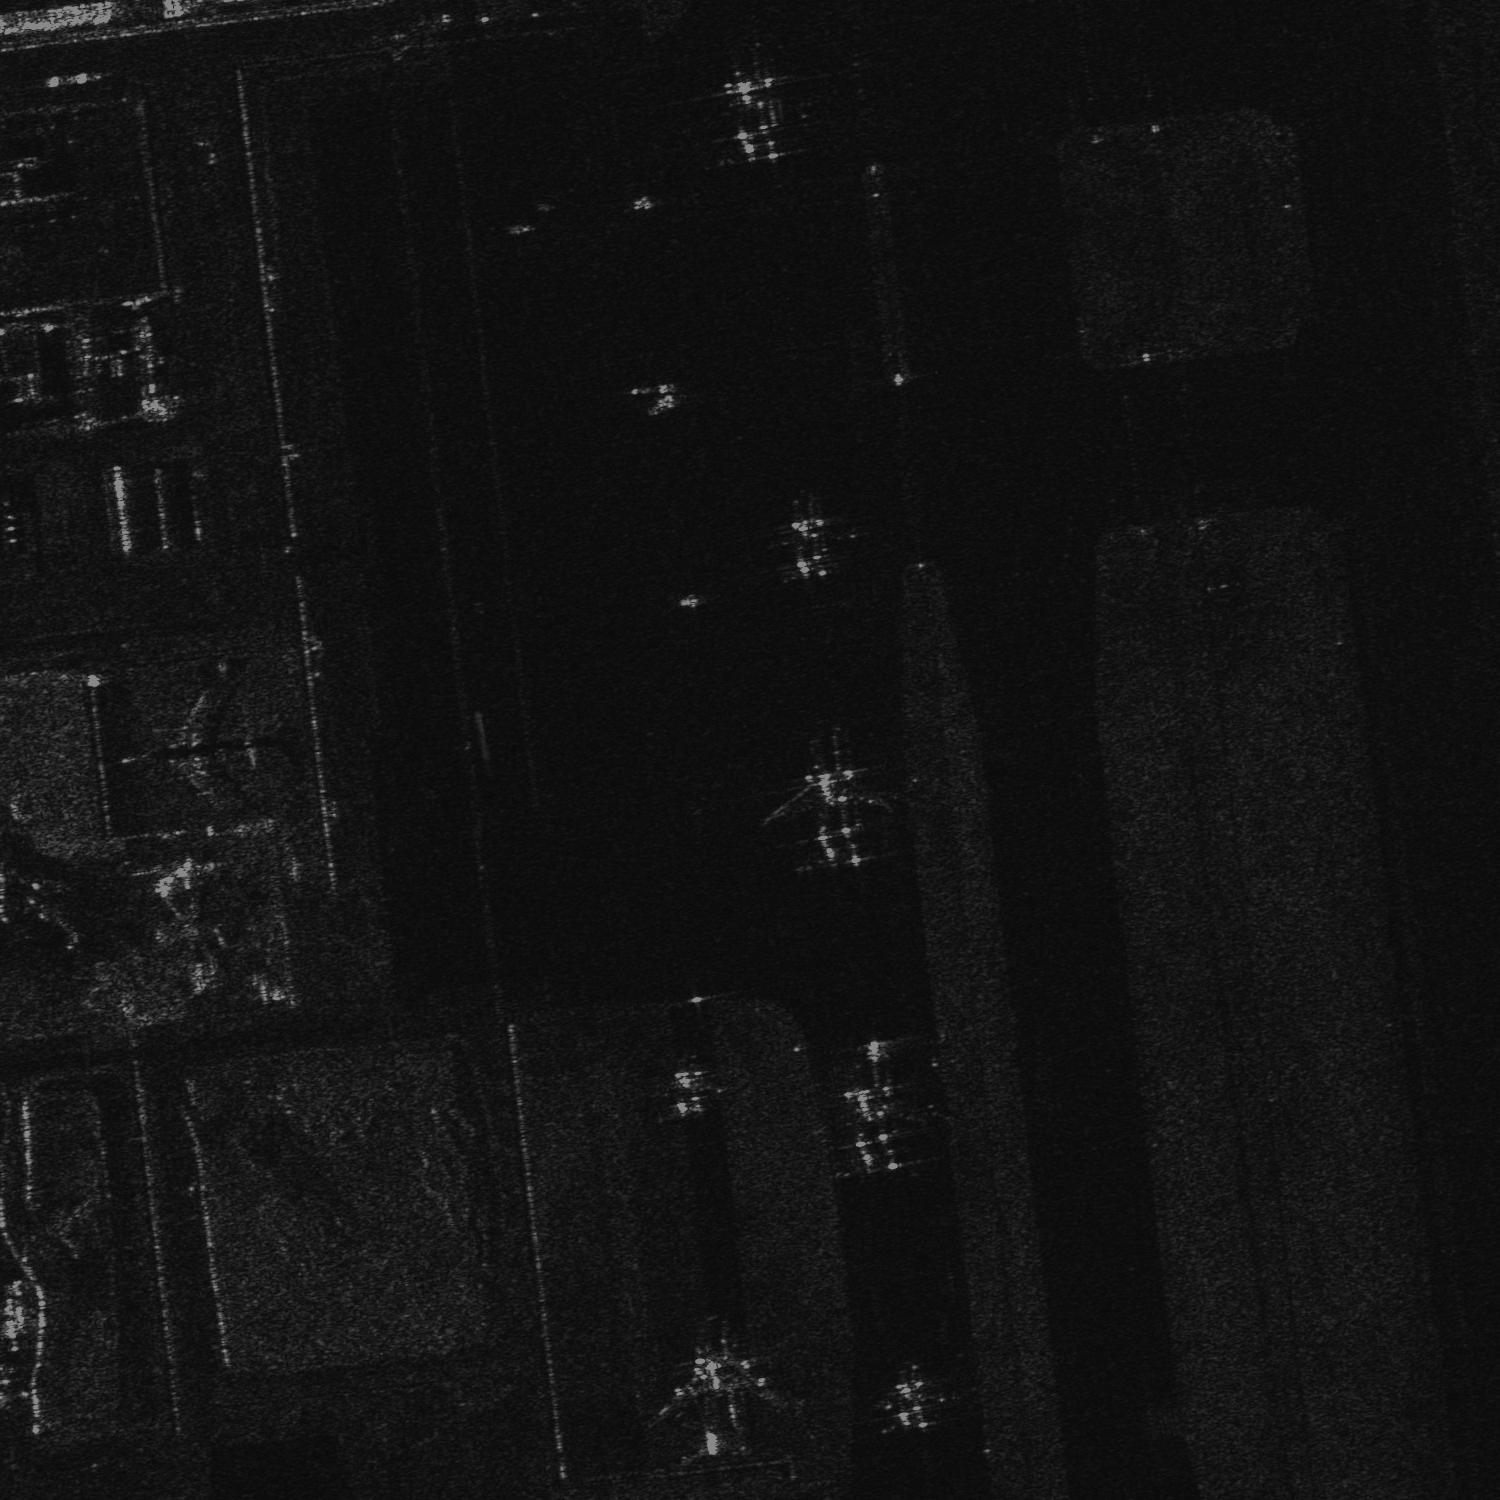A220: (650, 1055, 729, 1124)
A330: (859, 1363, 962, 1446)
Boeing787: (768, 488, 859, 588)
other: (121, 651, 310, 819), (635, 1332, 793, 1466), (808, 1036, 942, 1181), (761, 753, 901, 874), (705, 69, 804, 165)
